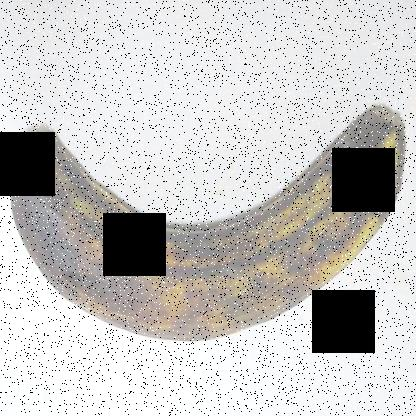overripe: (1, 87, 414, 357)
